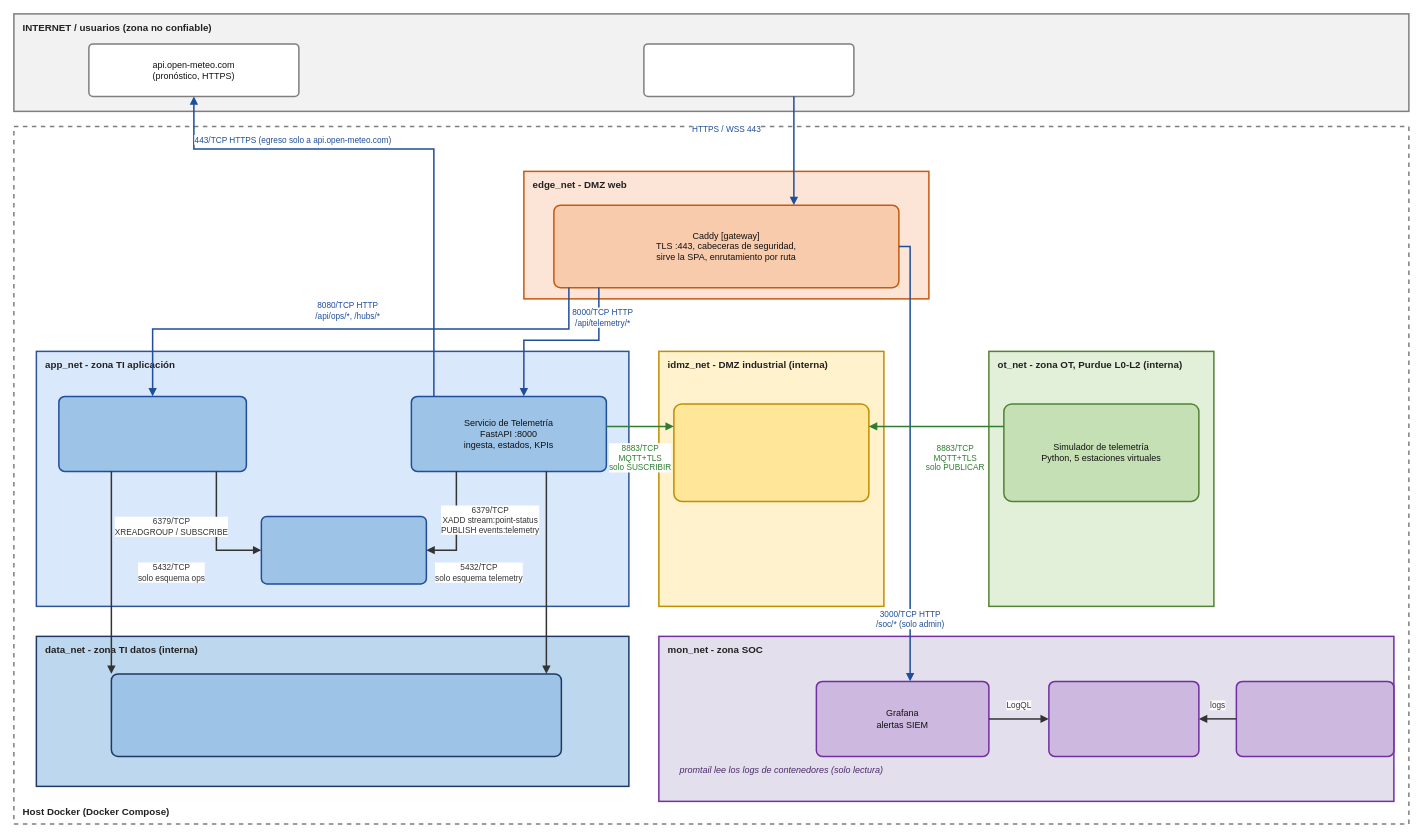
The diagram is 1422 pixels wide and 837 high, and some of its shapes have lost their labels. The shapes that lost their labels are listed below. From the top down, each one's centre as x and y in pixels, then its label:
At (748,70): "Usuarios (navegador) ciudadano · operador · supervisor · administrador".
At (152,433): "Servicio de Operaciones ASP.NET Core :8080 REST + SignalR, emite JWT".
At (771,452): "Mosquitto [broker MQTT] :8883 TLS, ACL por tópico".
At (343,549): "Redis :6379 Streams, Pub/Sub, caché".
At (336,715): "PostgreSQL + TimescaleDB :5432 esquema telemetry | esquema ops".
At (1123,718): "loki almacén de logs".
At (1314,718): "promtail lee logs de Docker".
